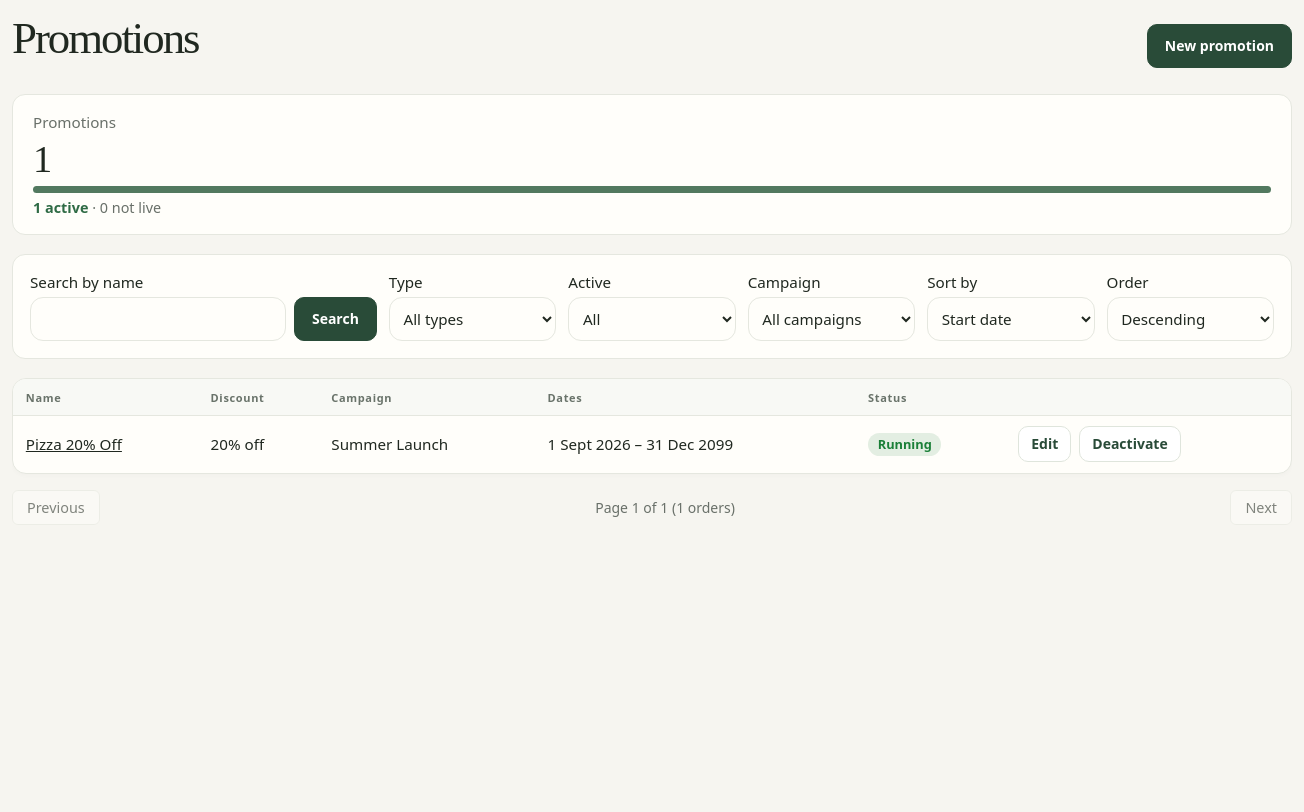
Test case: PromotionListPage › deactivates a promotion and reports success
Click the button with aria-label "Deactivate Pizza 20% Off".
click(1130, 444)  # box [1079,426,1181,462]
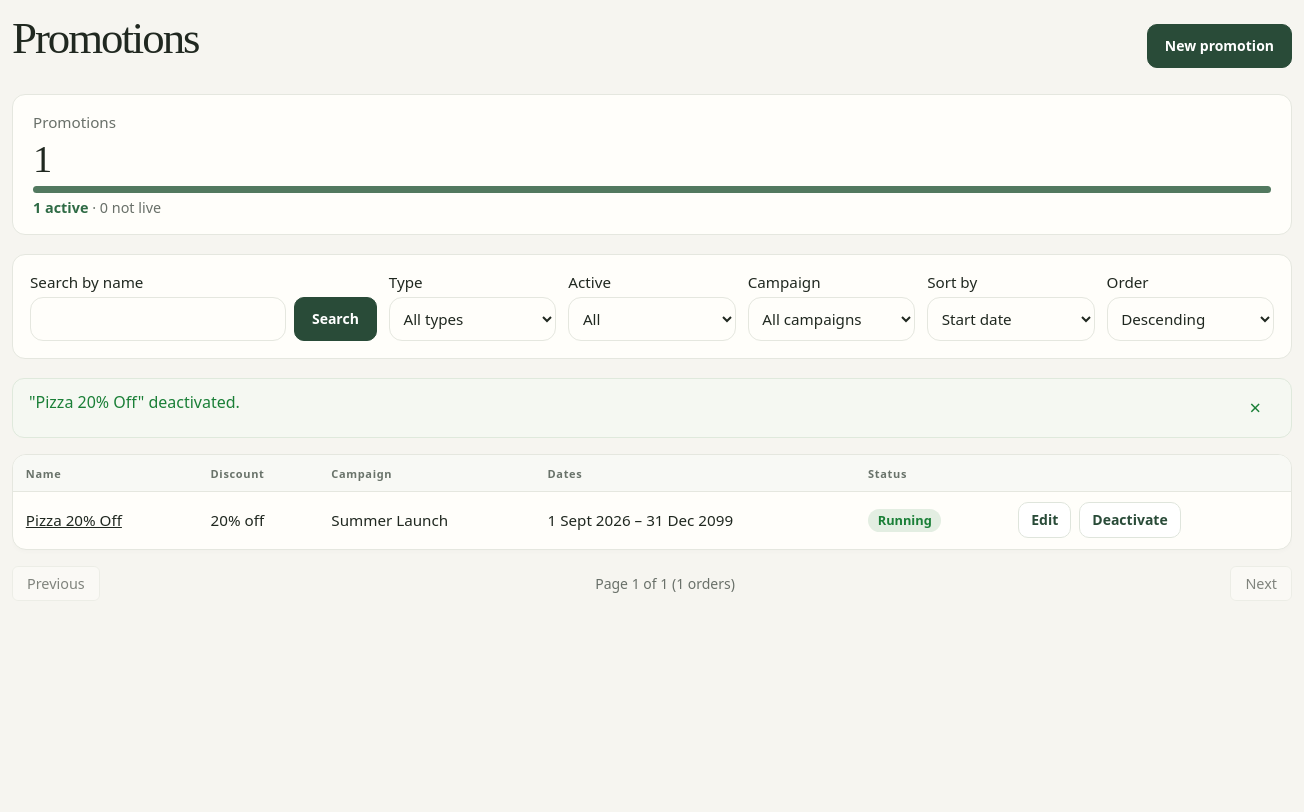
Expected: the text "\"Pizza 20% Off\" deactivated." is shown, [29,391,240,413]
